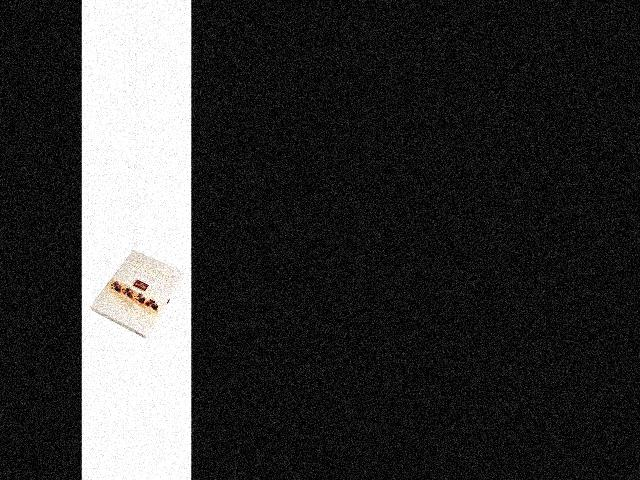chocolate: (83, 251, 184, 340)
